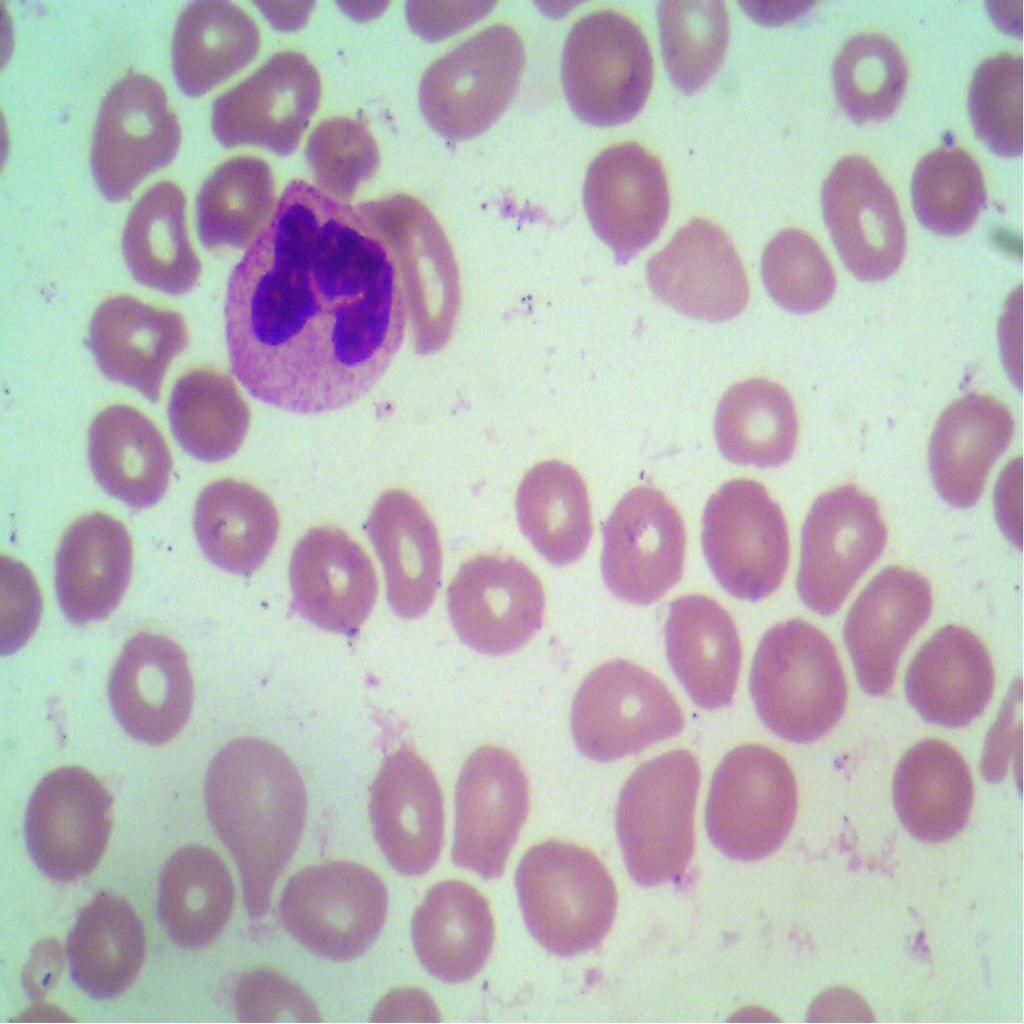Eritrosit: (504, 824, 622, 982), (569, 637, 695, 767), (418, 17, 540, 150), (698, 729, 804, 881), (691, 468, 793, 621), (382, 191, 472, 358), (806, 142, 914, 281), (19, 755, 121, 897), (558, 0, 662, 138), (446, 724, 532, 888), (208, 731, 309, 870), (616, 755, 710, 904), (590, 477, 692, 614), (39, 494, 133, 642), (918, 385, 1016, 524), (878, 712, 976, 851), (635, 207, 749, 325), (214, 38, 323, 161), (184, 467, 289, 594), (746, 608, 848, 738), (86, 70, 184, 205), (86, 284, 191, 408), (791, 474, 881, 618), (279, 861, 398, 968), (401, 862, 498, 992), (575, 134, 676, 257), (358, 735, 441, 881), (83, 394, 175, 524), (848, 559, 929, 704), (448, 539, 544, 661), (280, 525, 378, 644), (104, 628, 198, 751), (656, 588, 746, 714), (120, 175, 206, 305), (904, 621, 1001, 734), (363, 482, 442, 619), (706, 364, 804, 474), (822, 12, 911, 130), (514, 444, 595, 570), (906, 138, 996, 248), (164, 0, 266, 97), (66, 892, 148, 1007), (168, 365, 258, 465), (644, 0, 733, 101), (959, 26, 1023, 161), (755, 214, 834, 321), (161, 835, 233, 945), (300, 91, 370, 191)
Neutrofil: (224, 168, 409, 426), (923, 118, 964, 168)
